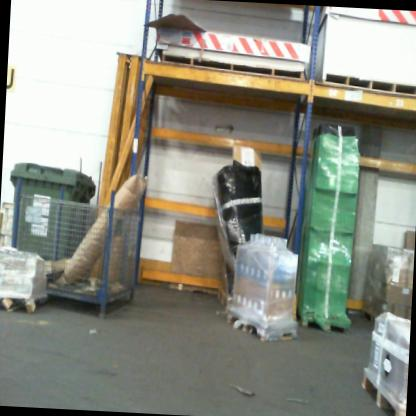pallet: (359, 366, 408, 416), (299, 310, 352, 336), (214, 286, 231, 310), (361, 307, 378, 326)
stillage: (8, 176, 147, 320)
